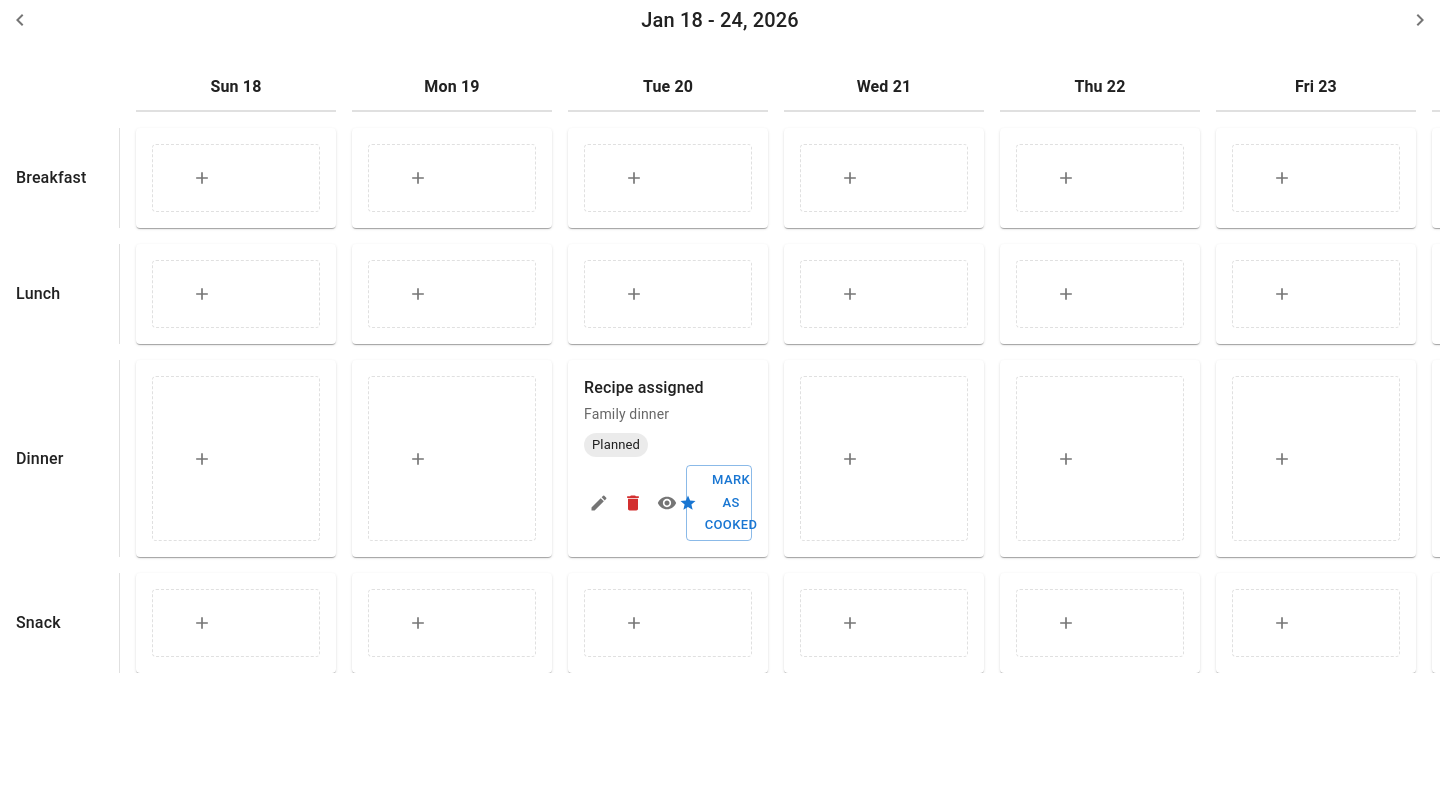
CalendarWeekView › should open delete dialog when Delete button clicked
The width and height of the screenshot is (1440, 810).
Click the button named "delete calendar entry" at (633, 503), box [618,465,648,541]
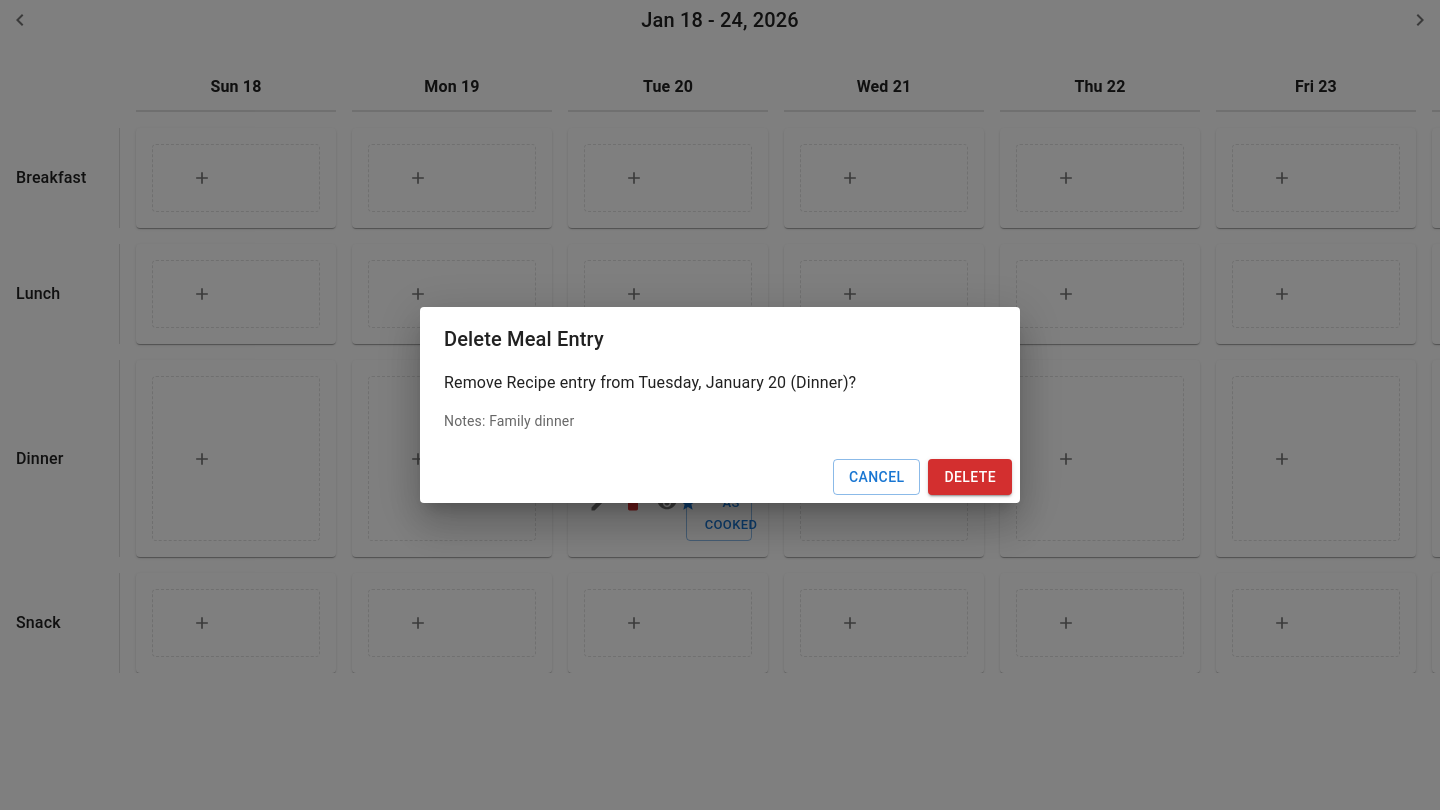
Now the heading "Delete Meal Entry" is shown, box [444,327,604,351]
